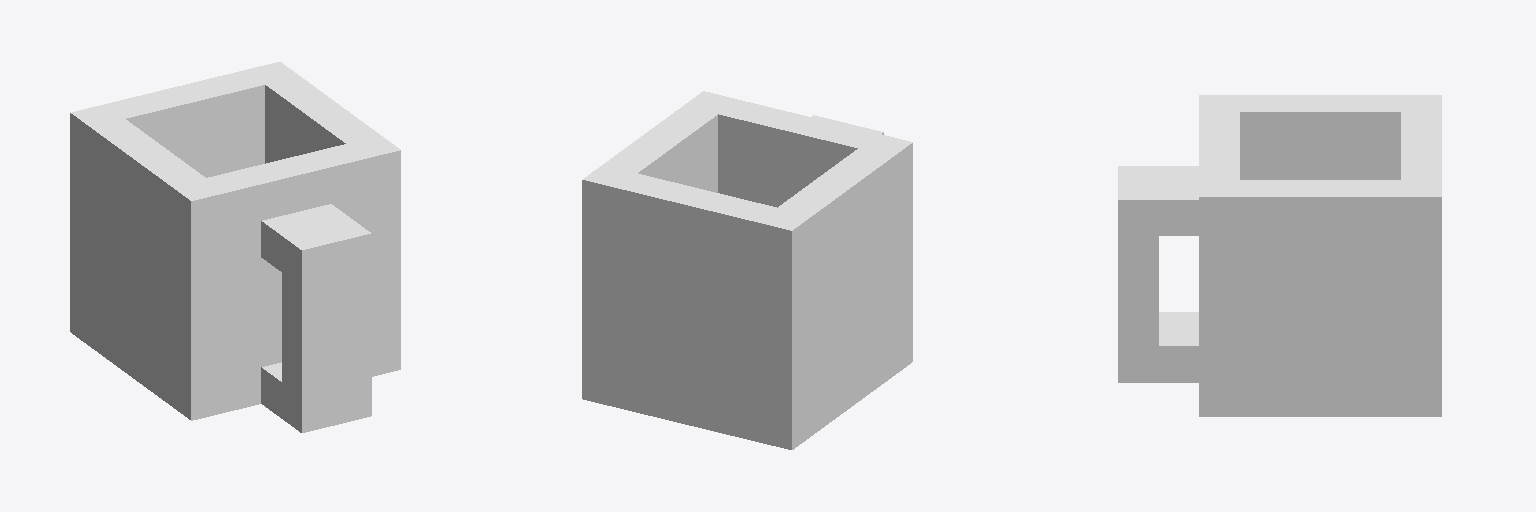
3 views of the same model, side by side, from view 1: azimuth 30°, elevation 25°; view 2: azimuth 150°, elevation 25°; view 3: azimuth 270°, elevation 25° (orthographic).
Visible parts, largest first — view 1: object 1; view 2: object 1; view 3: object 1.
Boxes of the visible parts, x1,y1,x2,y2 form: object 1: [70, 62, 400, 432]; object 1: [582, 91, 912, 449]; object 1: [1118, 95, 1441, 416].
Size of the model in its own units: 0.6 by 0.6 by 0.8.
1 materials, 1 textured.